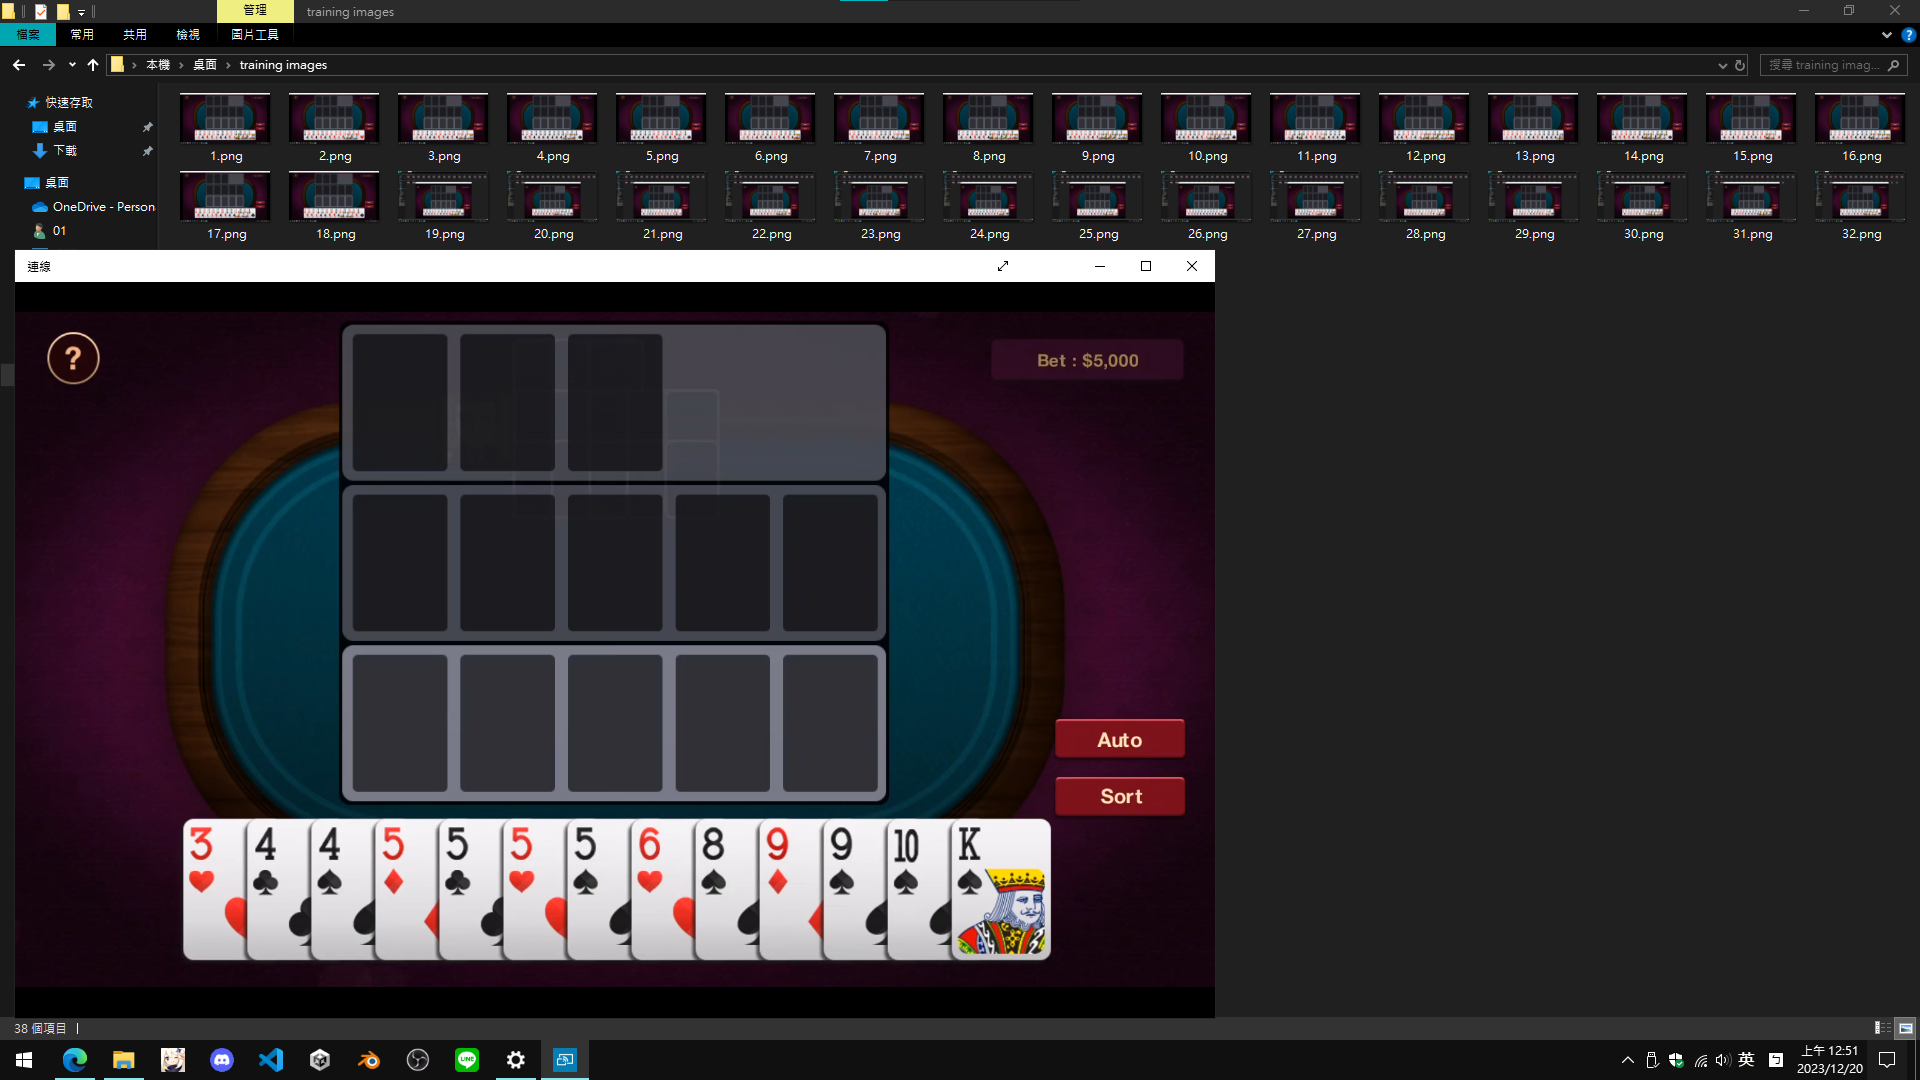10S: (891, 827, 923, 899)
3H: (187, 822, 218, 898)
4C: (252, 822, 281, 905)
4S: (315, 824, 347, 898)
5C: (444, 822, 473, 898)
5D: (381, 823, 407, 898)
5H: (509, 820, 537, 897)
5S: (572, 824, 601, 898)
6H: (636, 824, 666, 897)
8S: (700, 822, 731, 902)
9D: (764, 824, 793, 898)
9S: (828, 823, 857, 899)
KS: (956, 823, 985, 901)
